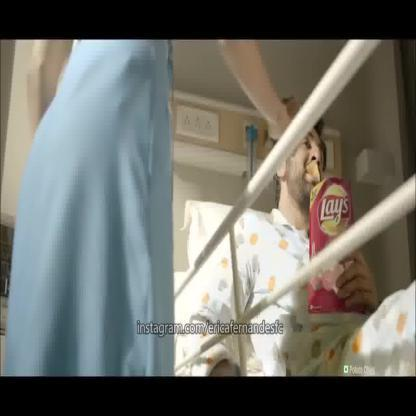tangy_tomato: (308, 177, 359, 310)
